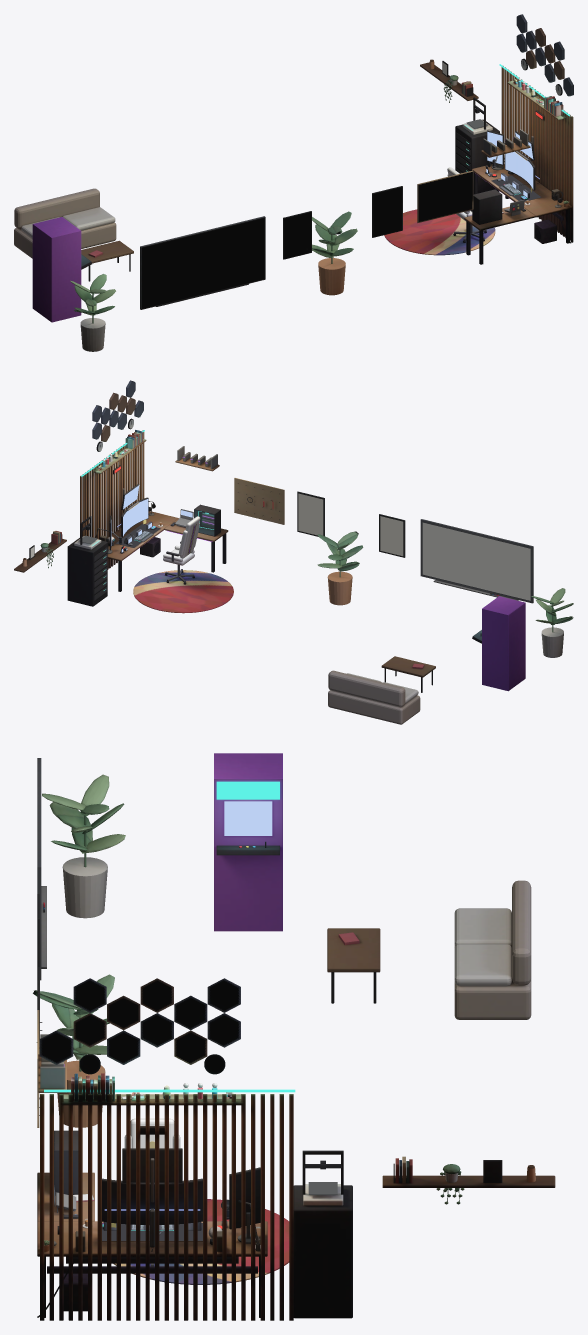
Rendered from studio.glb.
3 views of the same model, one above another, from view 1: azimuth 30°, elevation 25°; view 2: azimuth 150°, elevation 25°; view 3: azimuth 270°, elevation 25° (orthographic). The views are drawn at different scales.
Visible parts, largest first — view 1: studio_baked, screen_main; view 2: studio_baked, screen_board, screen_claude, screen_poster, screen_main; view 3: studio_baked, screen_arcade, arcade_marquee, slat_led_top, desk_mat.
Boxes of the visible parts, box(x1,y1,x2,y2) form: studio_baked: box(14, 14, 573, 351); screen_main: box(505, 151, 533, 189); studio_baked: box(14, 380, 573, 724); screen_board: box(422, 522, 530, 600); screen_claude: box(298, 493, 323, 535); screen_poster: box(380, 516, 403, 556); screen_main: box(123, 499, 148, 536); studio_baked: box(33, 753, 555, 1320); screen_arcade: box(224, 801, 272, 835); arcade_marquee: box(216, 781, 279, 799); slat_led_top: box(44, 1089, 295, 1092); desk_mat: box(102, 1223, 202, 1240).
Size of the model in its own units: 10.6 by 3.95 by 5.45.
Materials: 19 (1 with a texture image).
